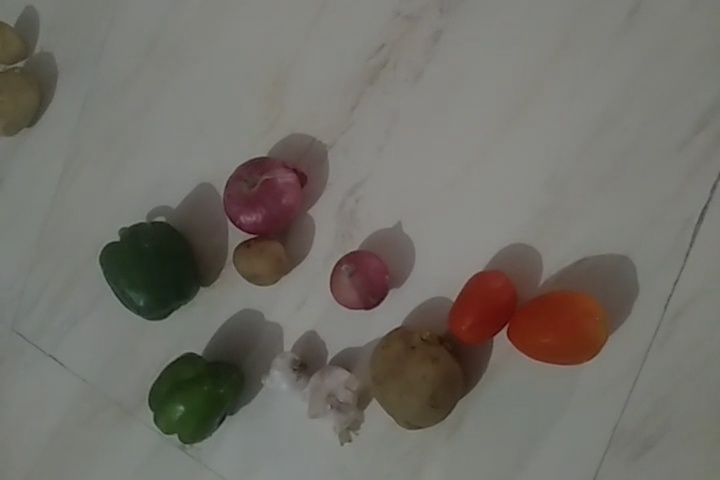capsicum: (96, 217, 195, 313), (147, 347, 234, 444)
garlic: (303, 366, 354, 437), (266, 347, 306, 391)
onion: (220, 161, 307, 237), (335, 248, 388, 313)
potato: (366, 327, 467, 434), (1, 61, 48, 141), (230, 240, 294, 289), (1, 18, 29, 68)
tomato: (516, 290, 619, 365), (450, 272, 509, 347)
